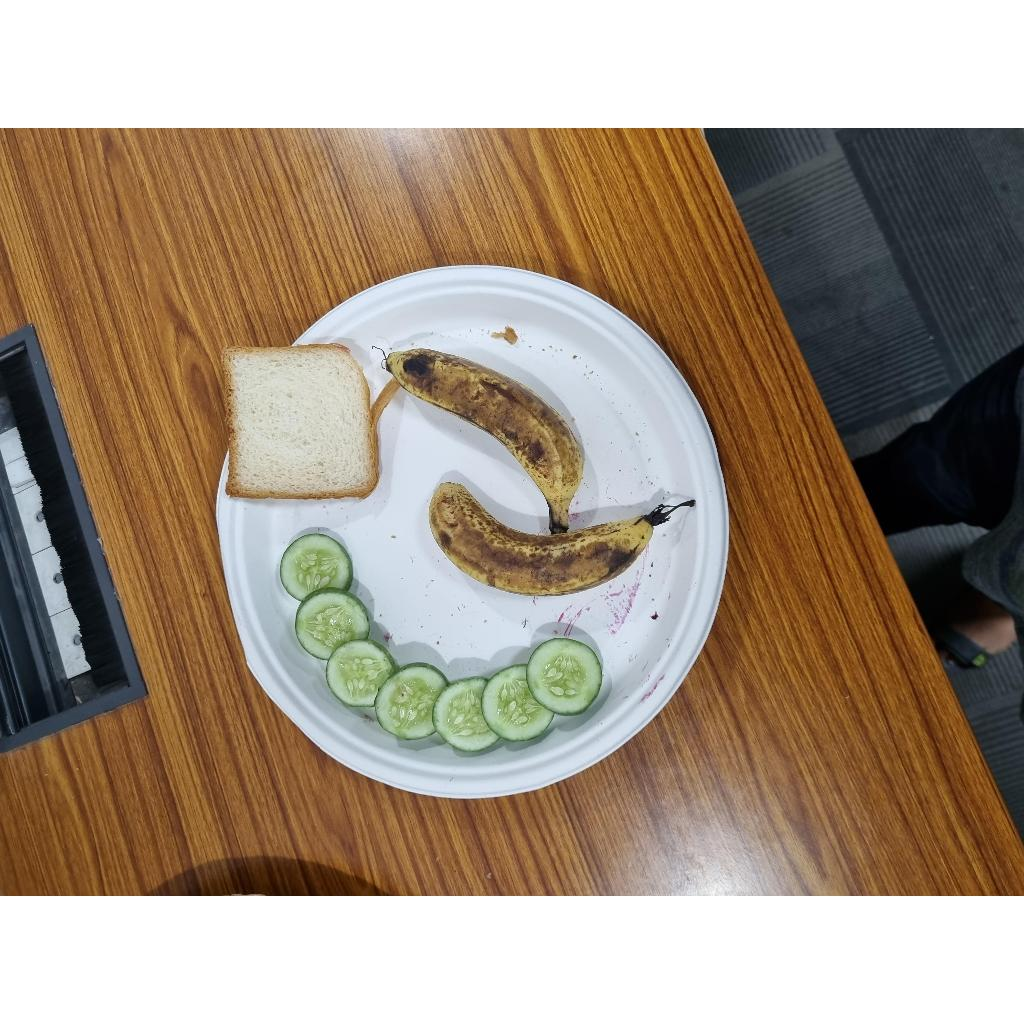banana: (382, 348, 588, 532), (423, 481, 666, 599)
cucumber: (433, 666, 552, 757), (526, 630, 609, 726), (293, 589, 390, 665), (277, 530, 365, 605), (374, 666, 454, 746), (326, 637, 400, 710)
